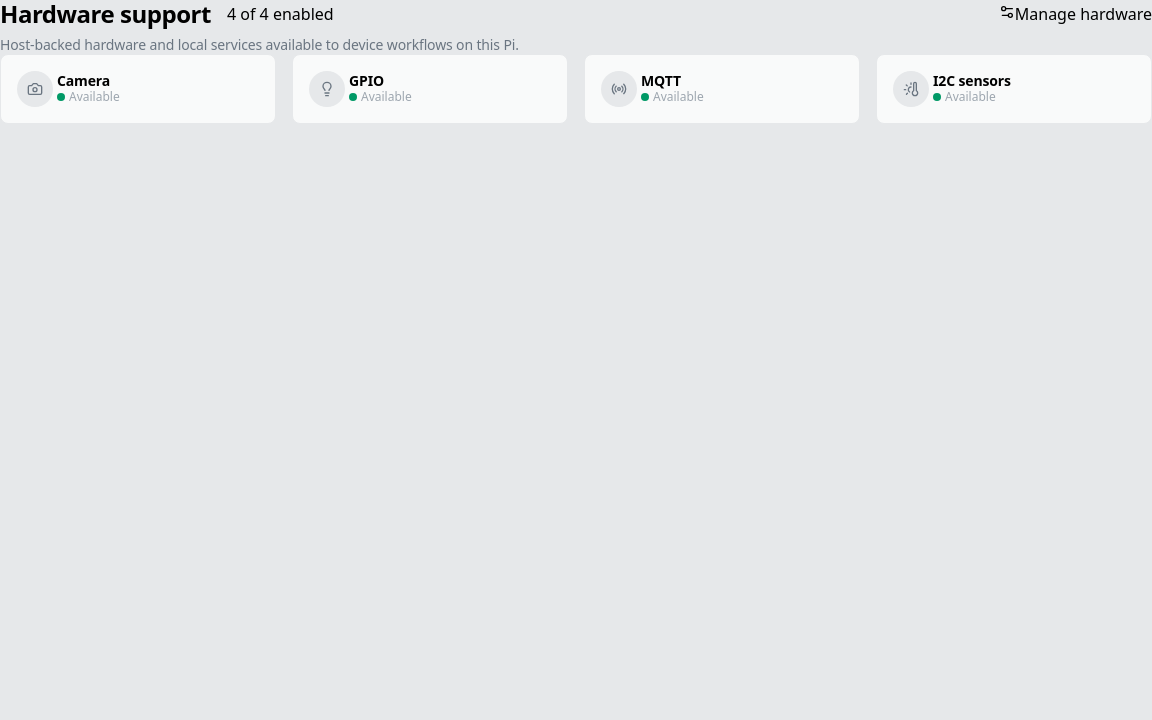
Test: LocalServicesCard › keeps MQTT URLs inside the MQTT hardware detail
Expected: the text "4 of 4 enabled" is shown, [227,3,334,25]
Expected: the text "mqtt://pi.local:1883" is not shown
Click the button with aria-label "MQTT: Available" at (619, 89), box [584,54,860,124]
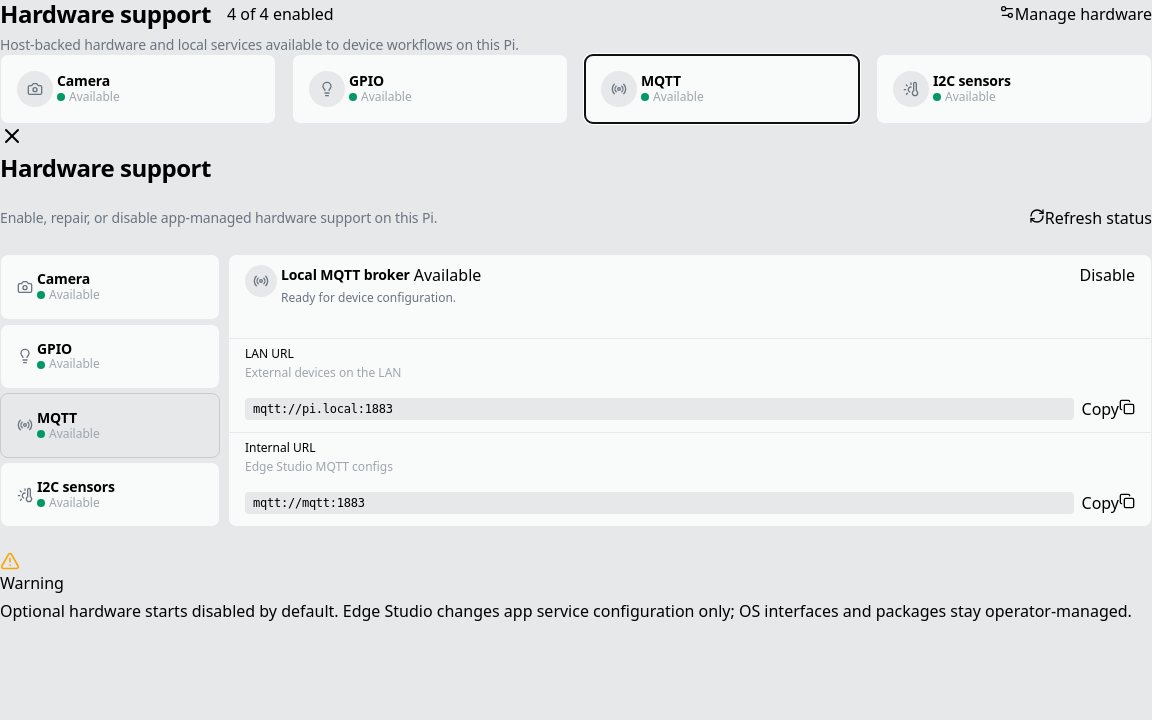
Now the text "mqtt://pi.local:1883" is shown, box [245,398,1074,420]
Now the text "mqtt://mqtt:1883" is shown, box [245,492,1074,514]
